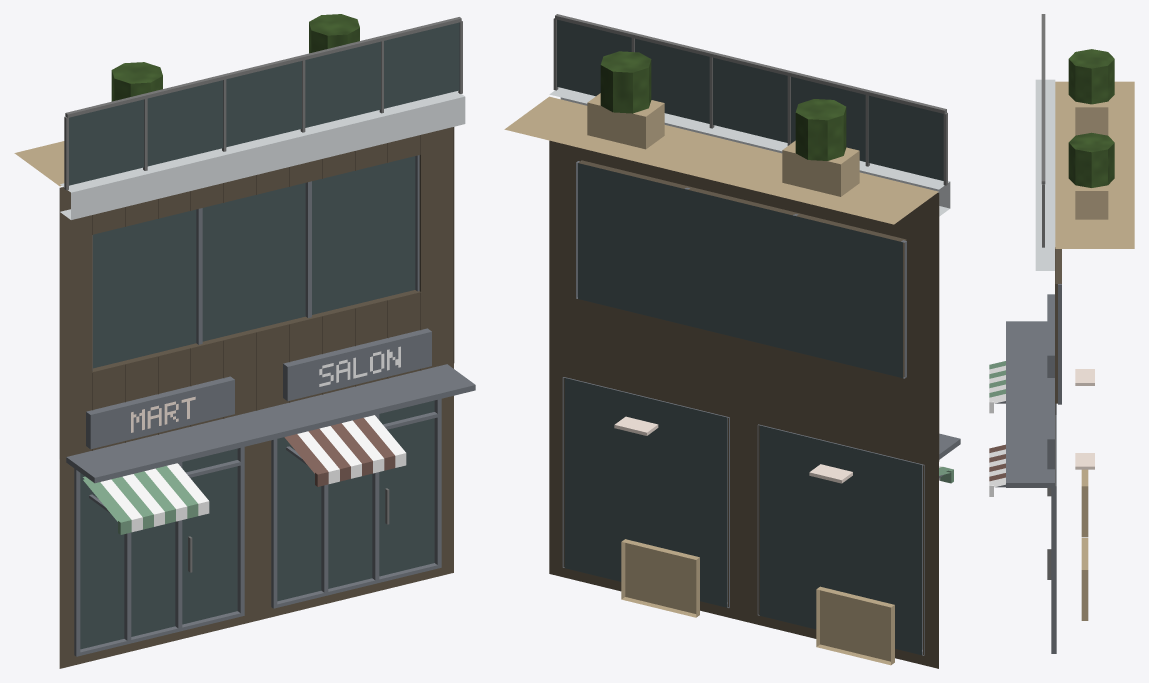
Rendered from base-w2_close.fbx.
3 renders of one model, left to right at view 1: azimuth 30°, elevation 25°; view 2: azimuth 150°, elevation 25°; view 3: azimuth 270°, elevation 25°, orthographic. The views are drawn at different scales.
Parts seen in each view (by area): view 1: a2010/0/base-w2_close; view 2: a2010/0/base-w2_close; view 3: a2010/0/base-w2_close.
Part boxes in pixels (x1,y1,x2,y2): a2010/0/base-w2_close: [14, 14, 475, 668]; a2010/0/base-w2_close: [504, 14, 960, 668]; a2010/0/base-w2_close: [989, 14, 1134, 653].
Size of the model in its own units: 6.04 by 8.15 by 2.2.
